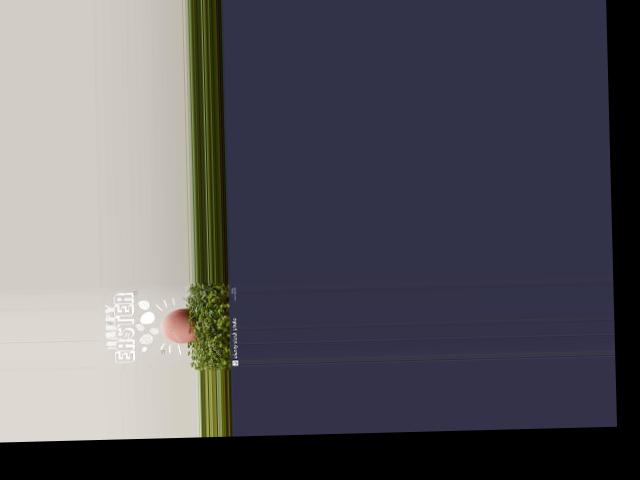egg: (160, 307, 195, 342)
